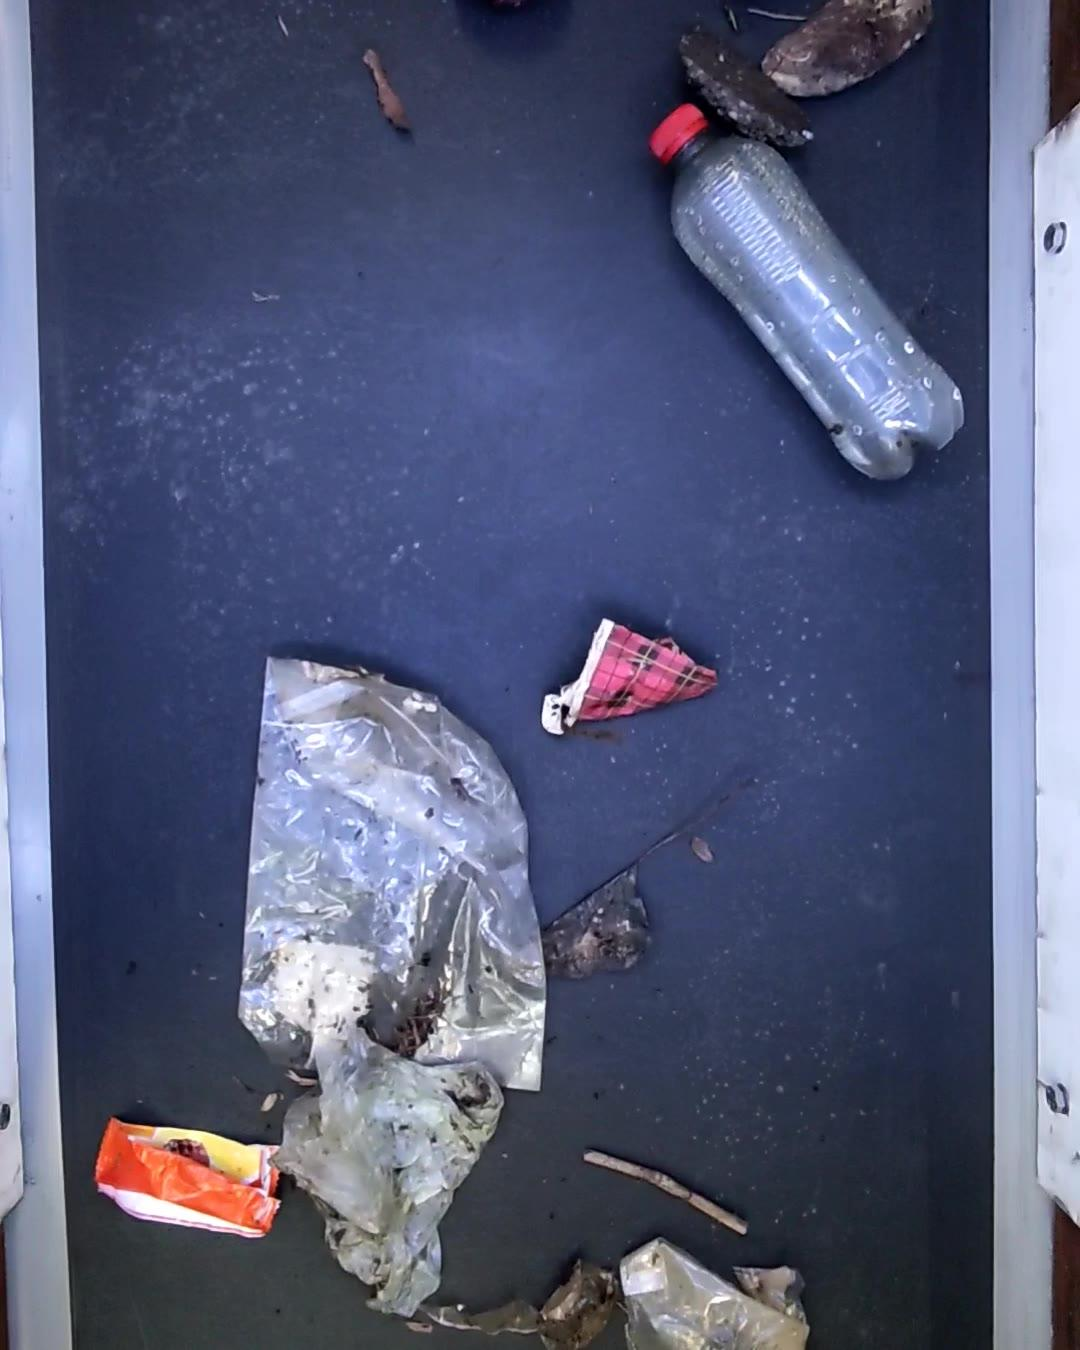Drankflessen - 1-2 liter: (649, 109, 979, 492)
Plastic folies of stukken daarvan 2.5- 50 cm: (233, 657, 546, 1097), (283, 1009, 504, 1309), (620, 1242, 808, 1350), (423, 1255, 620, 1350)
Snoep snack en chips verpakkingen: (94, 1120, 285, 1239)
